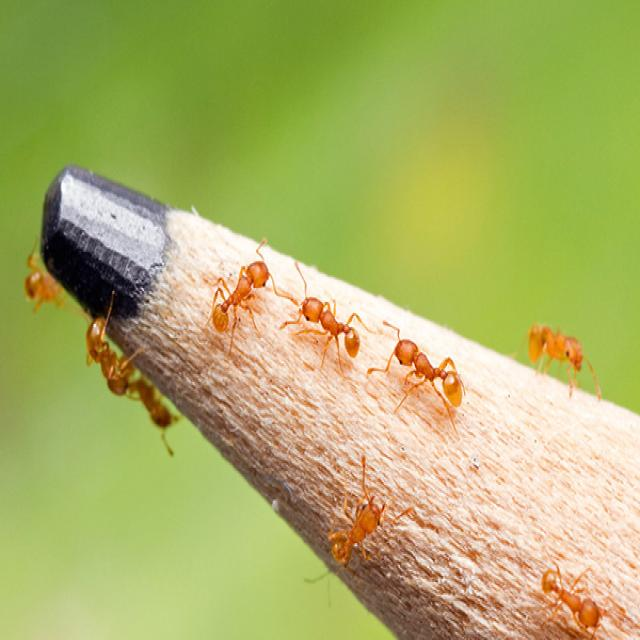ants: (379, 311, 462, 424), (320, 477, 414, 574), (74, 301, 147, 415), (516, 296, 588, 398), (290, 268, 364, 367), (532, 553, 606, 640), (125, 357, 188, 459), (200, 243, 272, 330), (16, 237, 73, 313)
